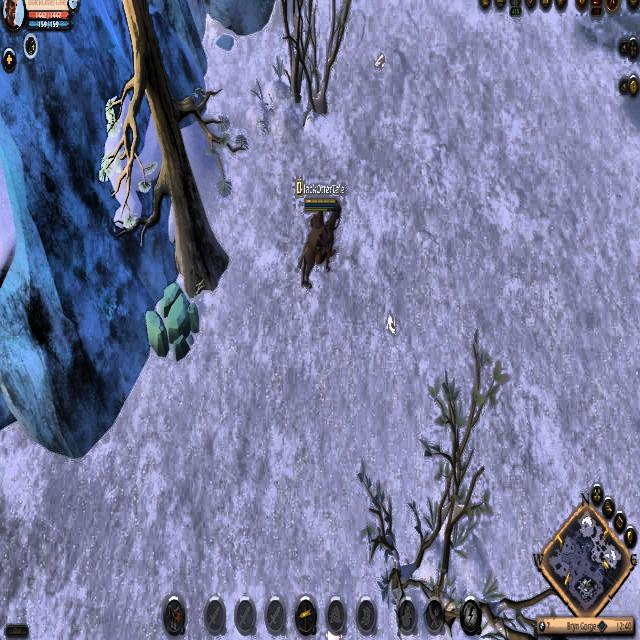sandstone: (143, 279, 202, 366)
